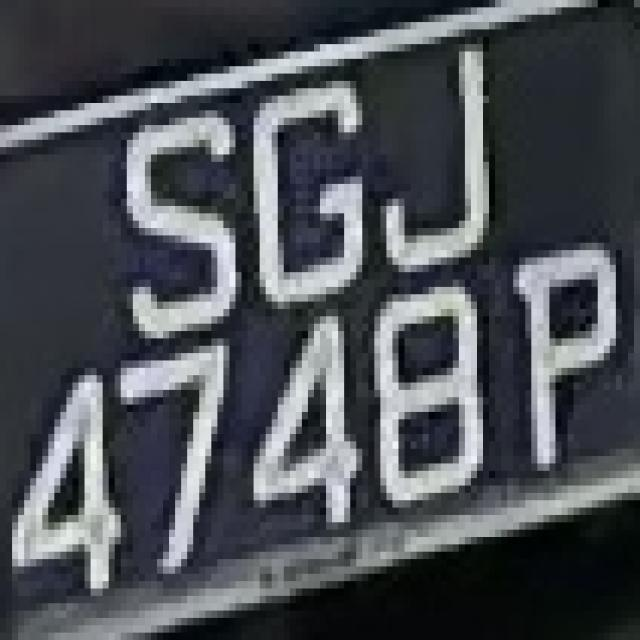4: (6, 346, 127, 618), (242, 309, 381, 537)
7: (108, 302, 235, 581)
8: (350, 279, 495, 515)
G: (242, 59, 374, 338)
J: (356, 44, 507, 294)
P: (507, 235, 628, 471)
S: (115, 96, 248, 360)
